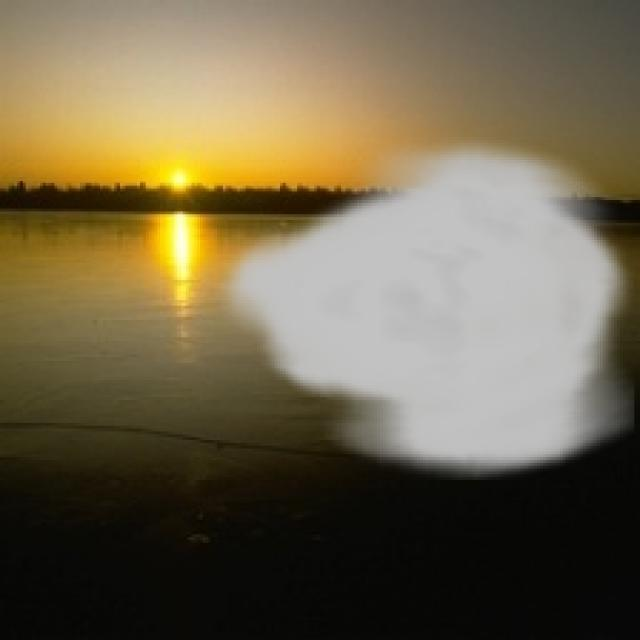Smoke: (215, 131, 634, 480)
